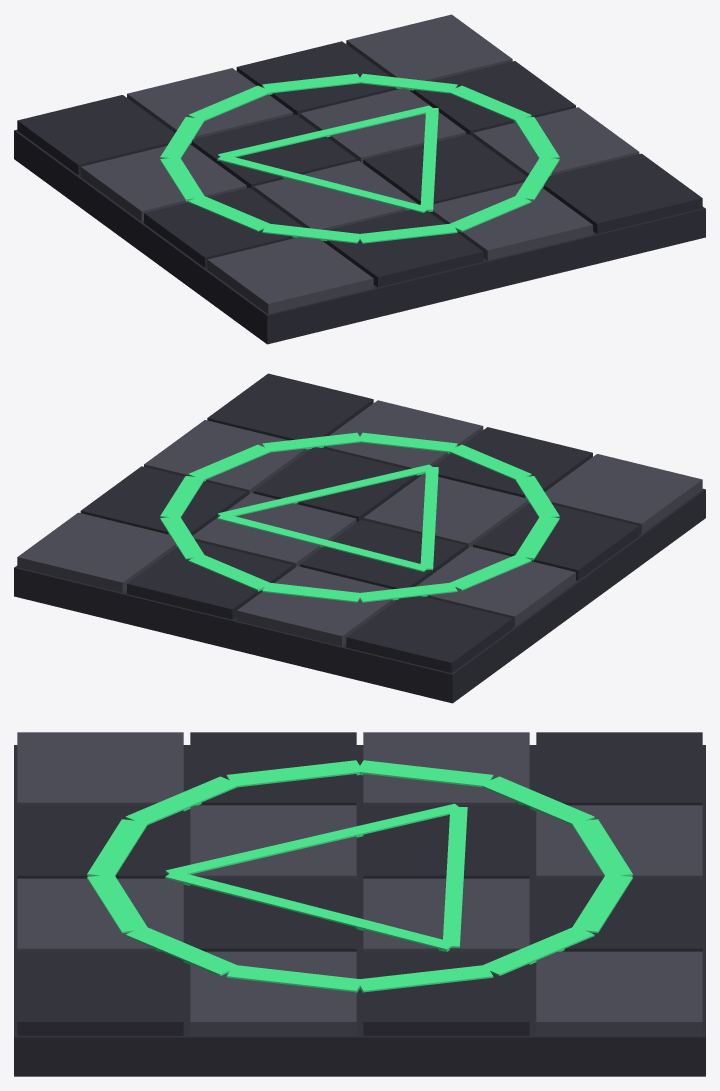
File: floor_rune.fbx
3 views of the same model, one above another, from view 1: azimuth 30°, elevation 25°; view 2: azimuth 150°, elevation 25°; view 3: azimuth 270°, elevation 25° (orthographic). The views are drawn at different scales.
Parts seen in each view (by area): view 1: floor_rune; view 2: floor_rune; view 3: floor_rune.
Boxes of the visible parts, box(x1,y1,x2,y2) form: floor_rune: box(14, 14, 705, 344); floor_rune: box(14, 373, 705, 703); floor_rune: box(14, 732, 705, 1076).
Size of the model in its own units: 4 by 0.35 by 4.
